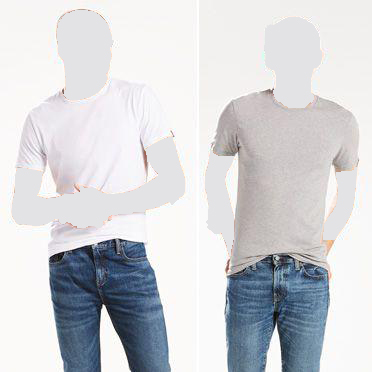teeshirt: (205, 85, 361, 278), (15, 80, 180, 256)
